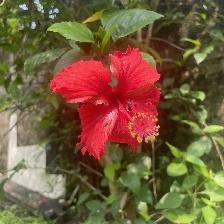hibiscus: (49, 47, 166, 166)
